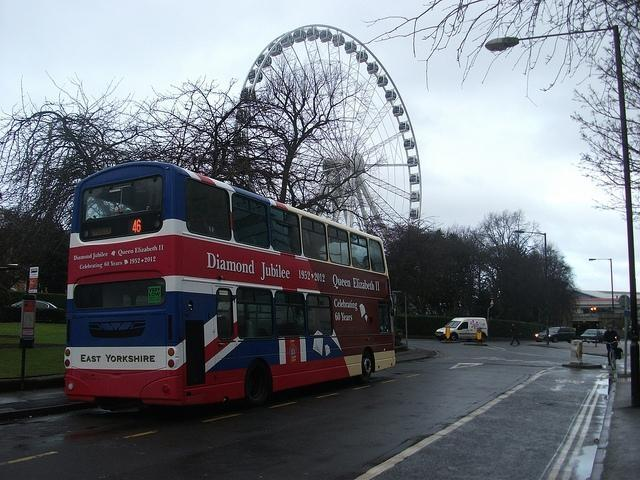bicycle: (604, 341, 616, 371)
bus: (68, 160, 398, 408)
car: (534, 326, 576, 344), (12, 300, 58, 308), (580, 330, 604, 344)
truck: (434, 317, 488, 342)
